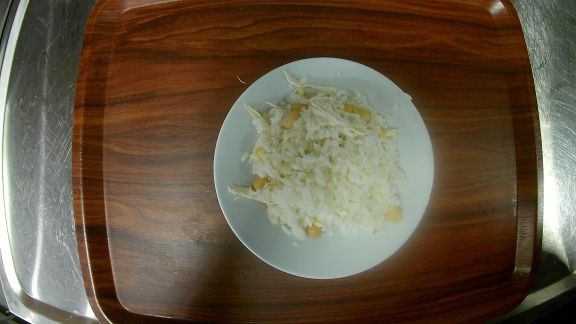nohutlupilav: (214, 57, 434, 278)
